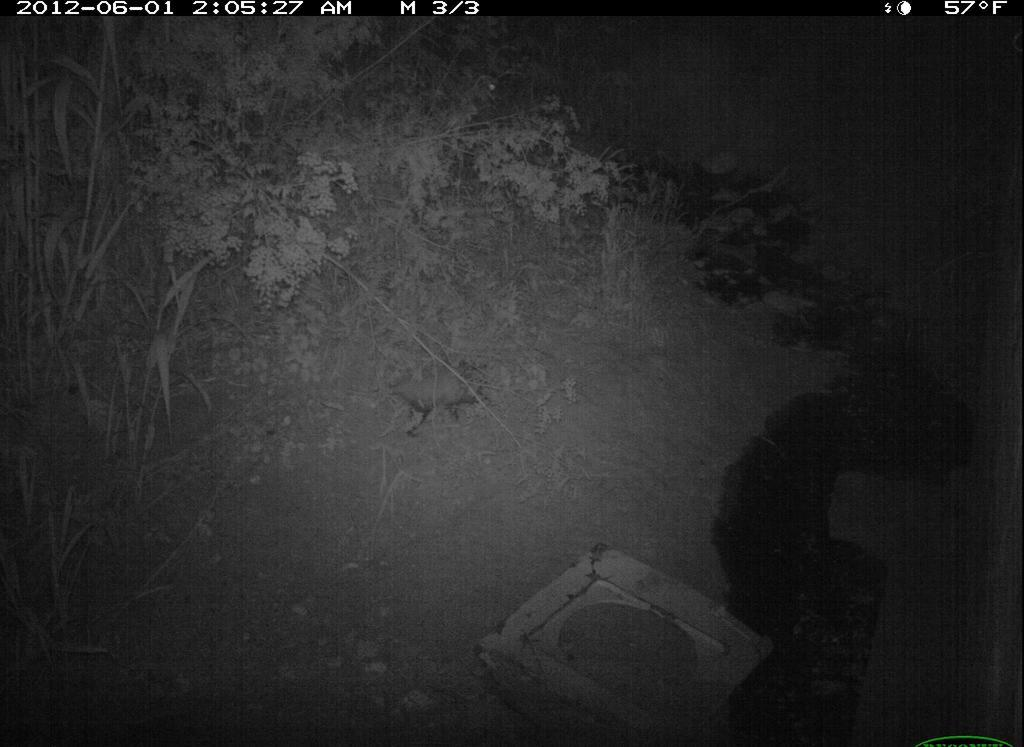opossum: (381, 354, 545, 436)
